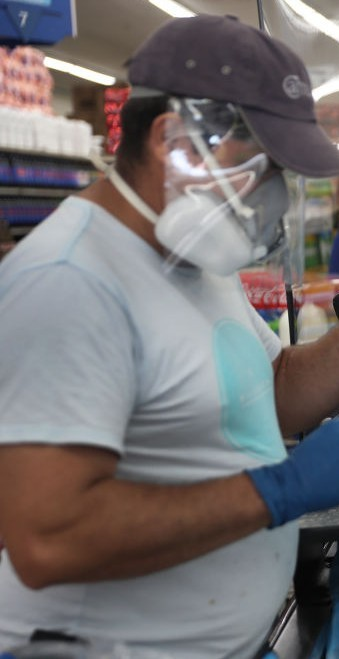with_mask: (120, 61, 329, 305)
